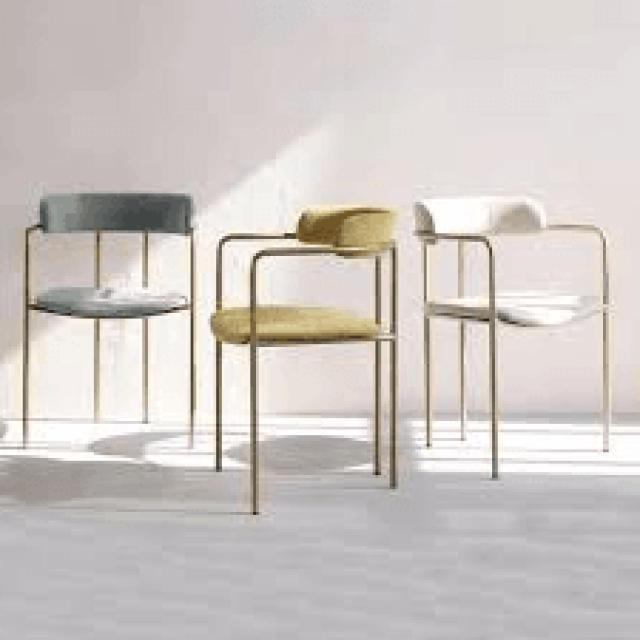chair: (204, 202, 402, 516), (410, 190, 616, 483), (16, 186, 200, 454), (209, 193, 391, 342), (414, 181, 602, 314), (17, 182, 198, 310)
